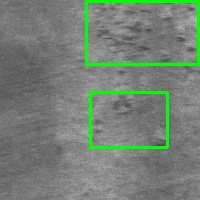rolled-in_scale: (86, 1, 198, 64), (90, 92, 167, 147)
